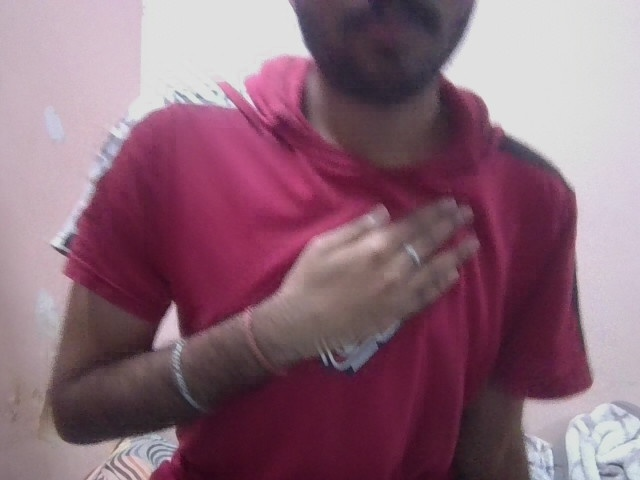Please: (284, 196, 482, 336)
